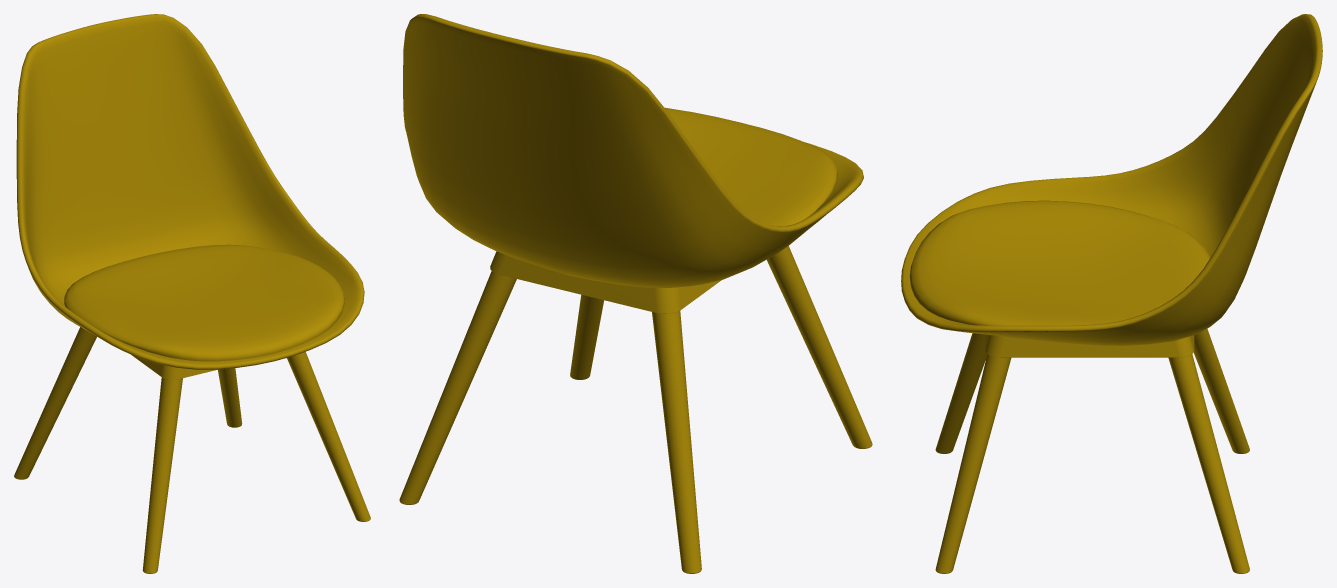
File: office_chair_1.fbx
3 views of the same model, side by side, from view 1: azimuth 30°, elevation 25°; view 2: azimuth 150°, elevation 25°; view 3: azimuth 270°, elevation 25° (orthographic). The views are drawn at different scales.
Visible parts, largest first — view 1: office_chair_1; view 2: office_chair_1; view 3: office_chair_1.
Part boxes in pixels (x1,y1,x2,y2): office_chair_1: (14, 14, 370, 573); office_chair_1: (399, 14, 872, 573); office_chair_1: (901, 14, 1322, 573).
Size of the model in its own units: 60.71 by 86.38 by 71.41.
